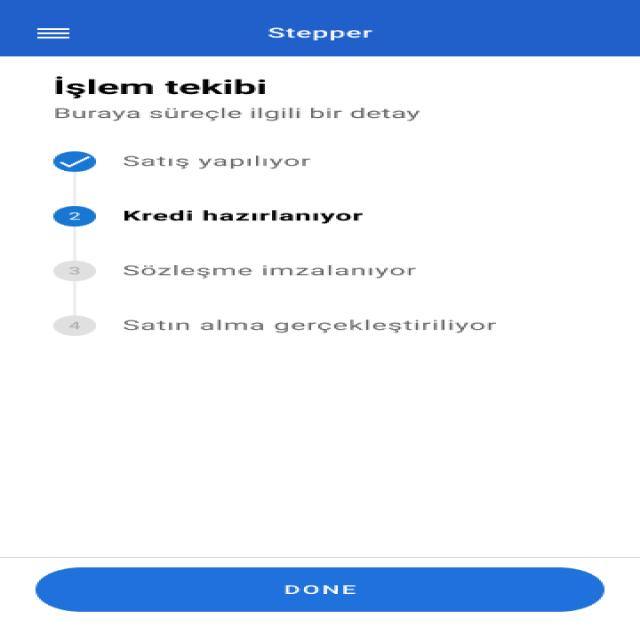QLabel: (47, 106, 425, 123), (49, 76, 268, 98), (267, 28, 377, 42), (282, 584, 360, 595)
VAppBar: (0, 1, 640, 56)
VBtn: (34, 567, 608, 613)
VFooter: (0, 556, 640, 640)
VIcon: (35, 27, 73, 39)
VStepper: (49, 150, 503, 338)
